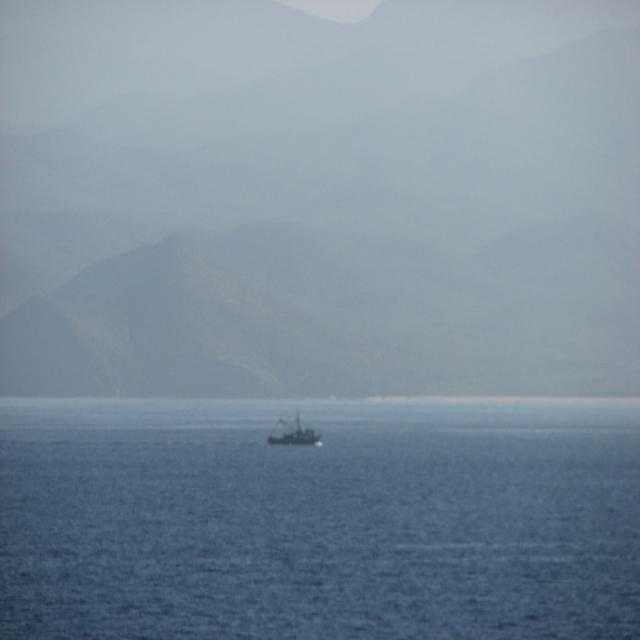fishing boat: (263, 405, 321, 446)
